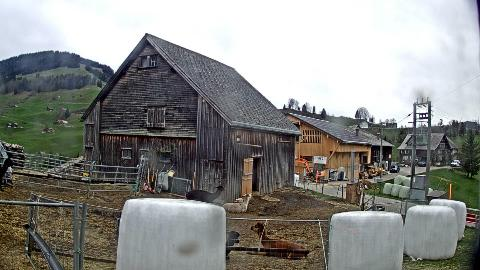car: (390, 166, 400, 172), (451, 160, 460, 166), (418, 162, 426, 166)
sheep: (252, 221, 308, 258), (225, 226, 243, 264), (185, 186, 225, 202), (0, 157, 15, 193), (227, 193, 251, 213), (222, 198, 244, 212)
